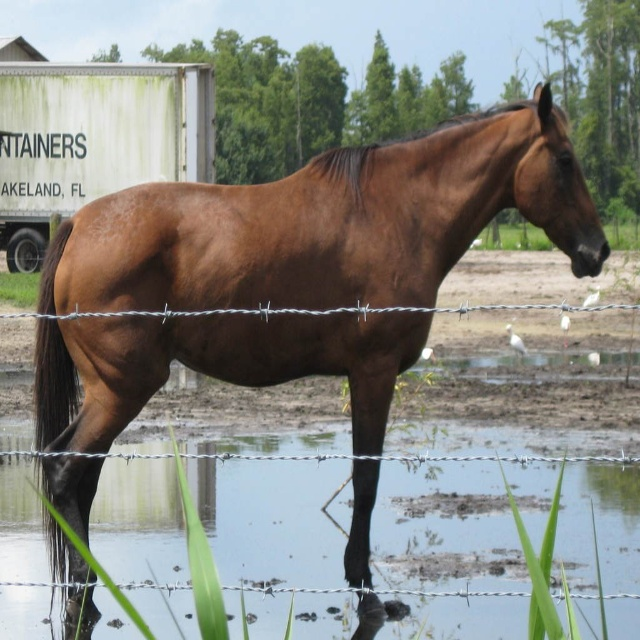Horse: (33, 82, 611, 625)
